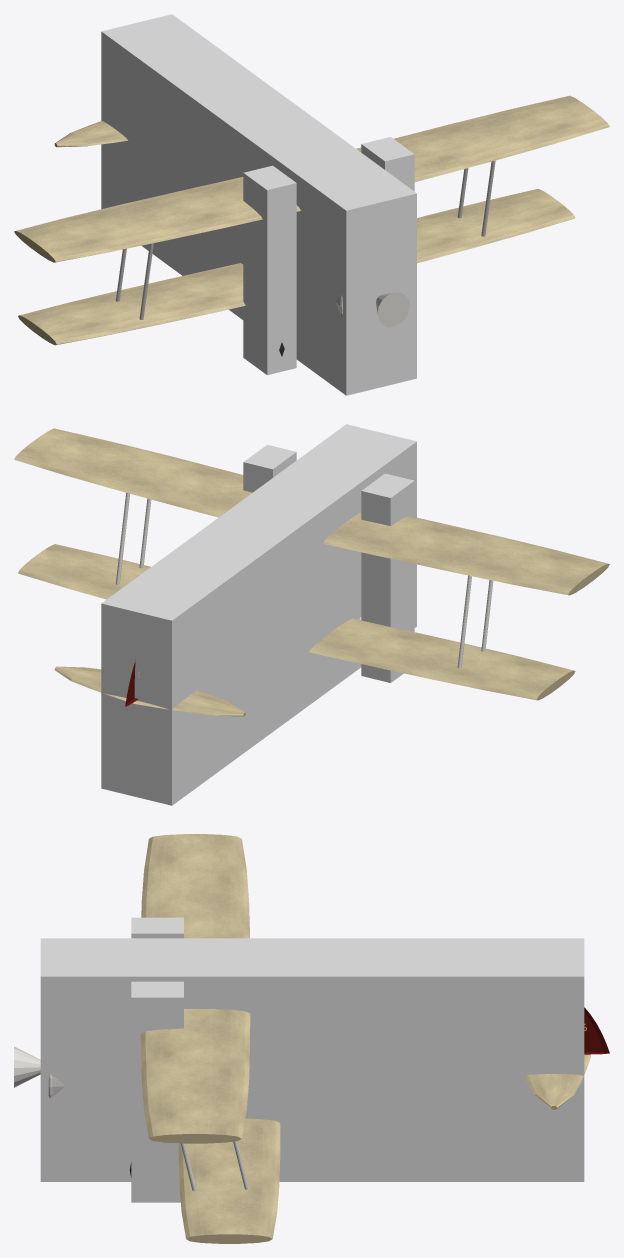
Rendered from waco.glb.
3 renders of one model, top to bottom at view 1: azimuth 30°, elevation 25°; view 2: azimuth 150°, elevation 25°; view 3: azimuth 270°, elevation 25°, orthographic. The views are drawn at different scales.
Visible parts, largest first — view 1: COL_Waco_Fuselage, Waco_Body, COL_Waco_WheelR, COL_Waco_WheelL, Waco_Prop; view 2: COL_Waco_Fuselage, Waco_Body, COL_Waco_WheelR, COL_Waco_WheelL; view 3: COL_Waco_Fuselage, Waco_Body, COL_Waco_WheelL, COL_Waco_WheelR, Waco_Prop.
Boxes of the visible parts, x1=… form: COL_Waco_Fuselage: x1=101, y1=14, x2=416, y2=395; Waco_Body: x1=14, y1=95, x2=609, y2=356; COL_Waco_WheelR: x1=243, y1=165, x2=296, y2=375; COL_Waco_WheelL: x1=361, y1=137, x2=414, y2=191; Waco_Prop: x1=376, y1=292, x2=409, y2=326; COL_Waco_Fuselage: x1=101, y1=424, x2=416, y2=805; Waco_Body: x1=14, y1=428, x2=609, y2=716; COL_Waco_WheelR: x1=361, y1=473, x2=414, y2=682; COL_Waco_WheelL: x1=243, y1=444, x2=296, y2=492; COL_Waco_Fuselage: x1=40, y1=938, x2=584, y2=1181; Waco_Body: x1=48, y1=834, x2=609, y2=1243; COL_Waco_WheelL: x1=131, y1=981, x2=183, y2=1202; COL_Waco_WheelR: x1=131, y1=917, x2=183, y2=938; Waco_Prop: x1=14, y1=1046, x2=40, y2=1087.
Size of the model in its own units: 9.4 by 3.01 by 7.89.
Materials: 6 (2 with a texture image).
